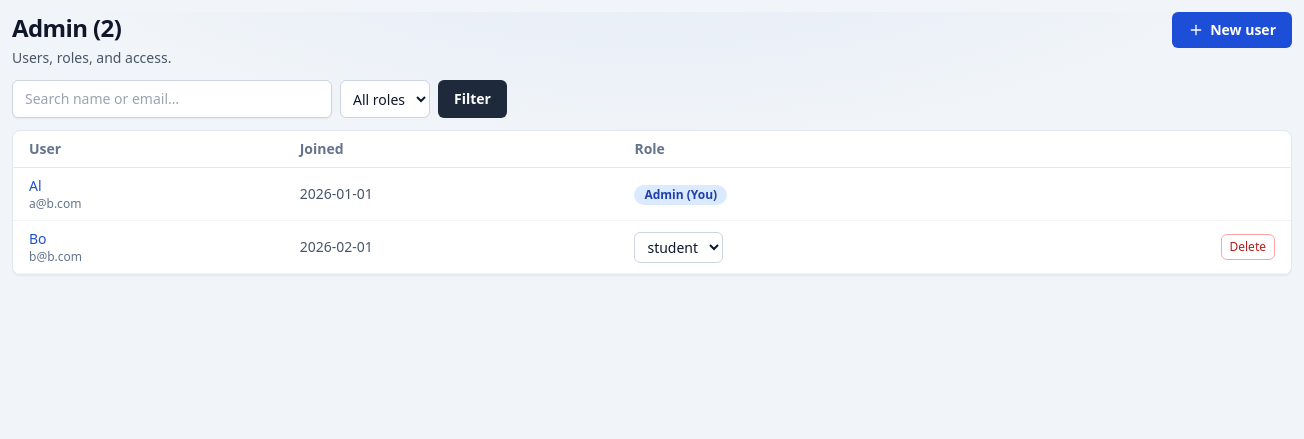
Test: Admin page › creates a user through the form
Expected: the text "b@b.com" is shown, left=29, top=248, right=82, bottom=265
Step 1. Click the button "New user" → (1232, 30), box left=1172, top=12, right=1292, bottom=48
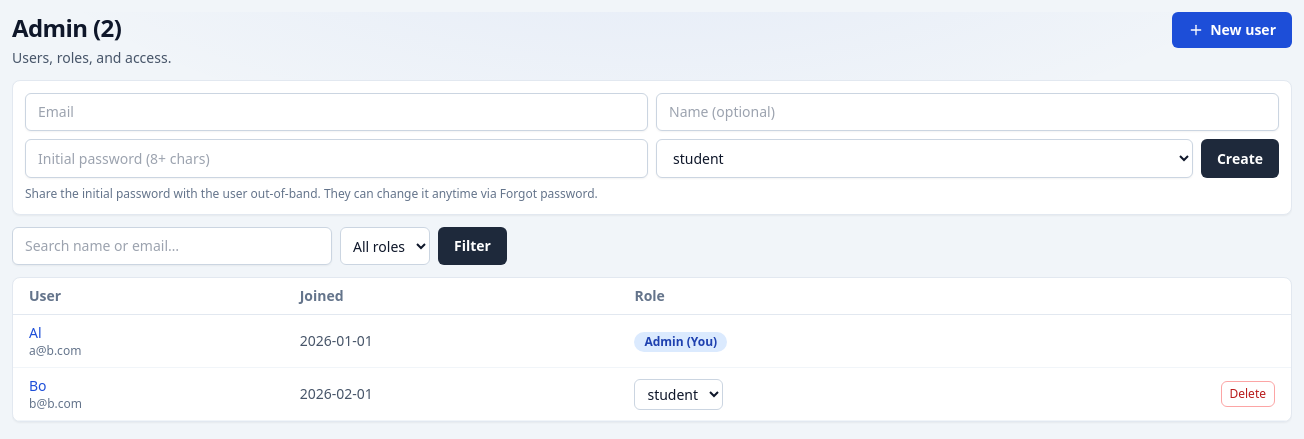
Step 2. Type "c@c.com" into the field labelled "Email" → (336, 112), box left=25, top=93, right=648, bottom=131
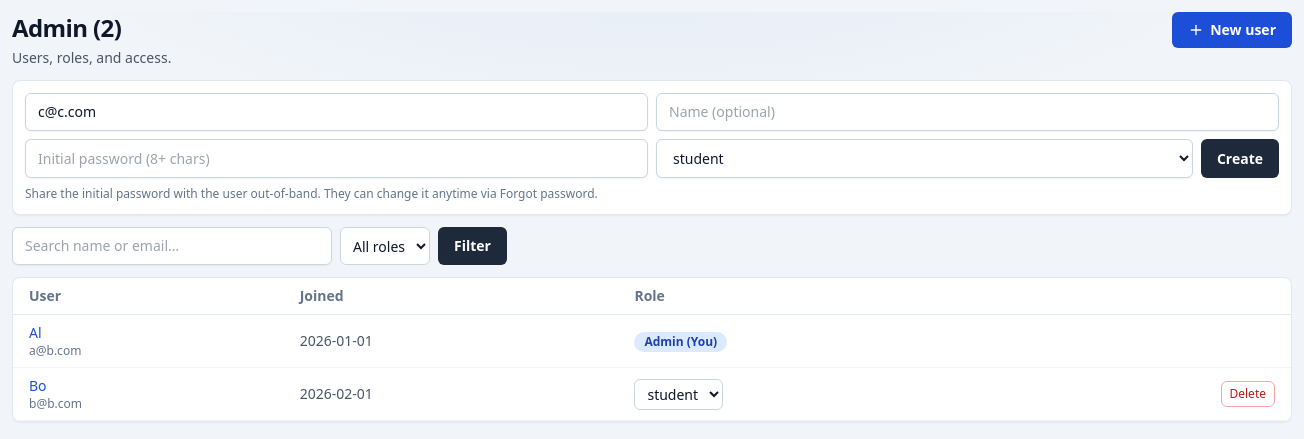
Step 3. Type "password123" into the password field labelled "Initial password" → (336, 158), box left=25, top=139, right=648, bottom=178
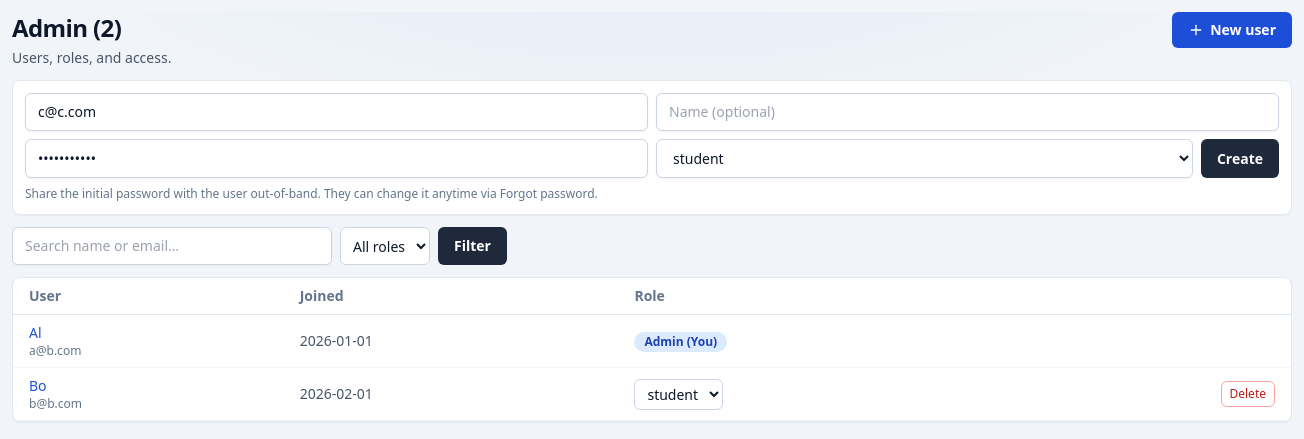
Step 4. Select "student" in the dropdown named "Role" → (924, 158), box left=656, top=139, right=1193, bottom=178
Step 5. Click the button "Create" → (1240, 158), box left=1201, top=139, right=1279, bottom=178
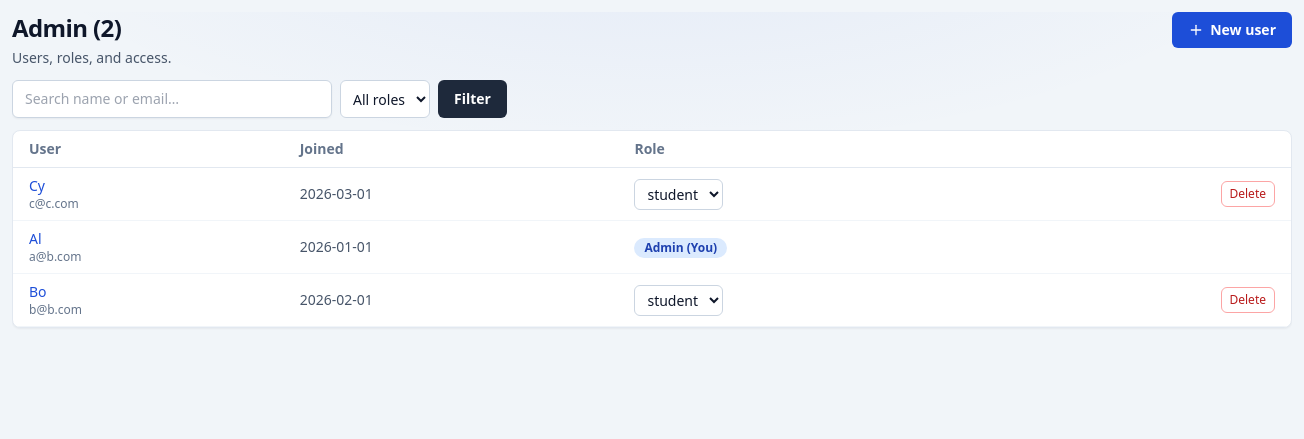
Expected: the text "c@c.com" is shown, left=29, top=195, right=79, bottom=212
